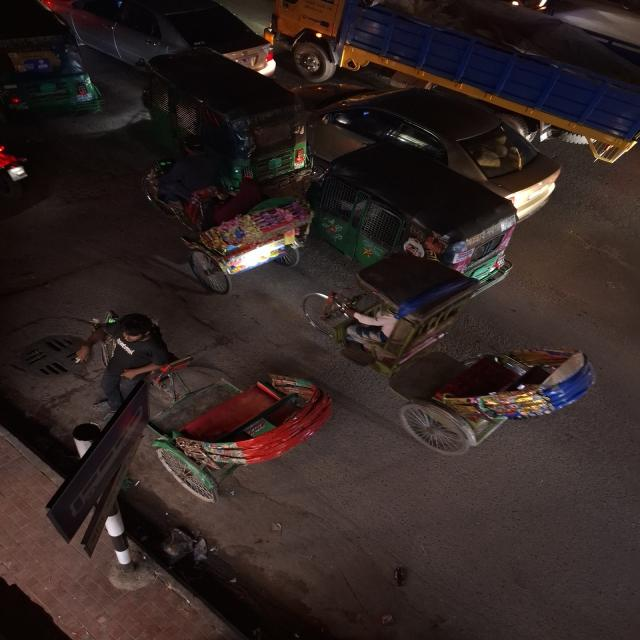car: (312, 84, 568, 210), (78, 0, 276, 73)
cng: (316, 147, 523, 273), (142, 50, 312, 190), (0, 0, 106, 123), (0, 541, 98, 640)
motorcycle: (0, 100, 29, 195)
rickshaw: (64, 299, 330, 509), (378, 341, 614, 459), (296, 255, 498, 375), (129, 167, 311, 281)
truck: (285, 3, 636, 148)
